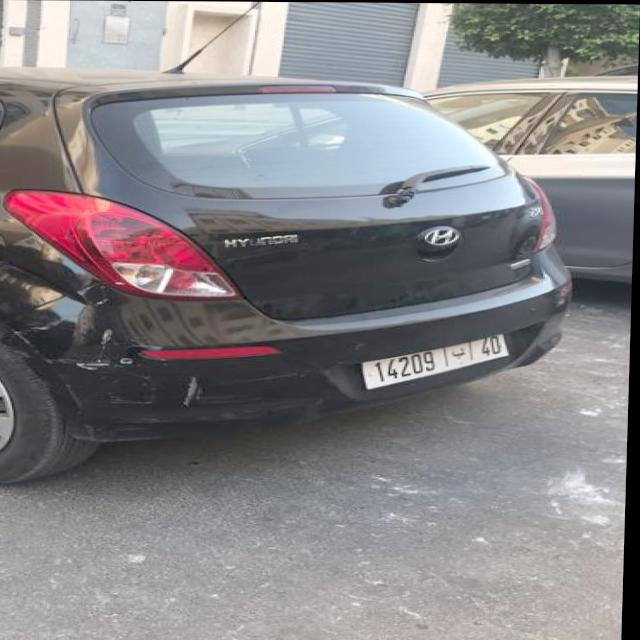License-Plate: (367, 335, 509, 388)
